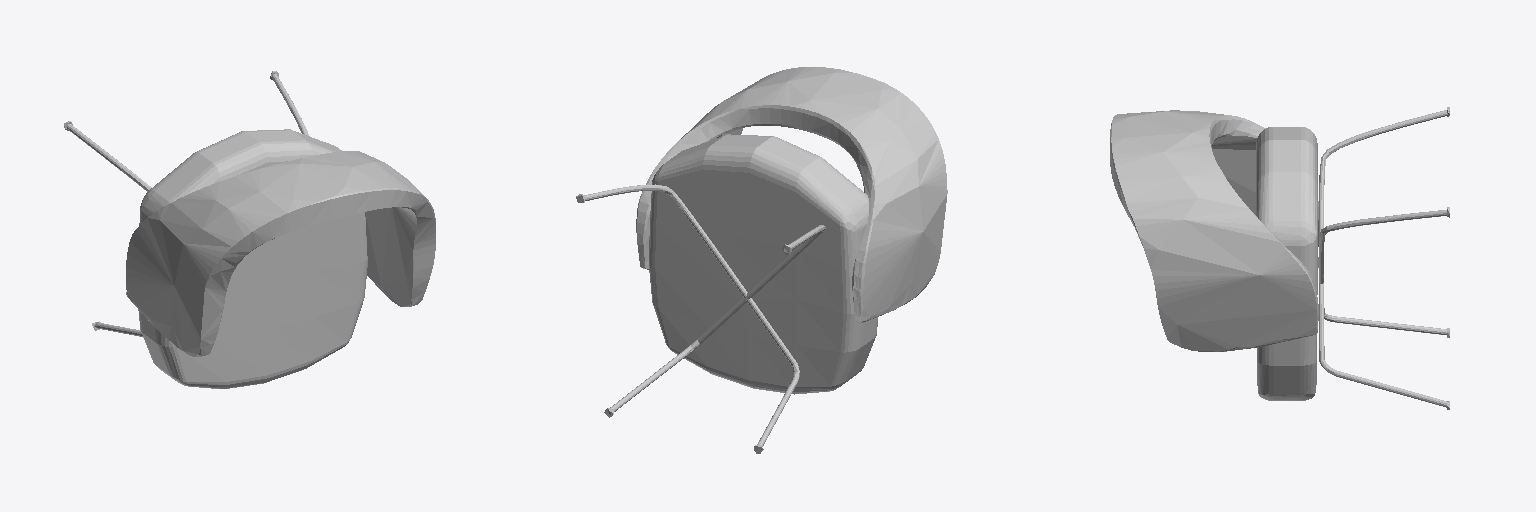
File: chair_0590_QEM_90pct.obj
3 views of the same model, side by side, from view 1: azimuth 30°, elevation 25°; view 2: azimuth 150°, elevation 25°; view 3: azimuth 270°, elevation 25° (orthographic).
Bounding box in the file's own units: 0.8045 × 0.8038 × 1.